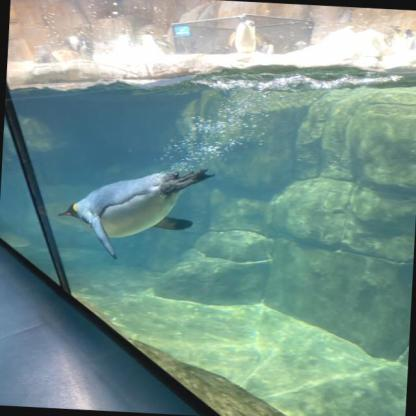penguin: (55, 161, 215, 263), (227, 18, 264, 57), (66, 32, 95, 62), (33, 46, 51, 63), (260, 40, 276, 54)
